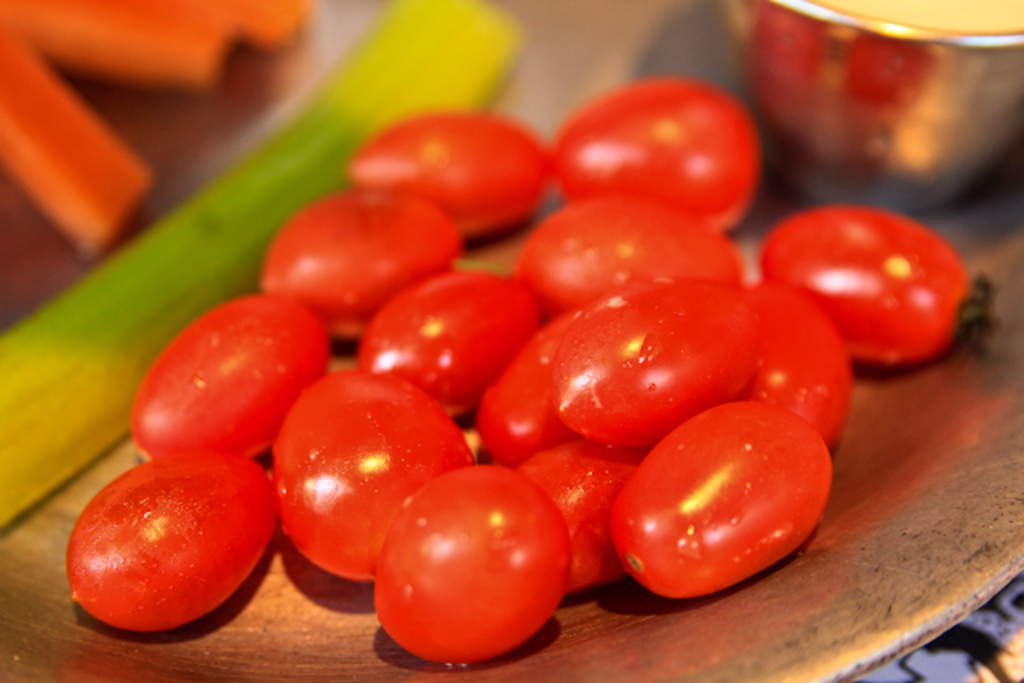Tomato: (70, 81, 982, 654), (608, 395, 832, 604), (371, 460, 592, 665)
